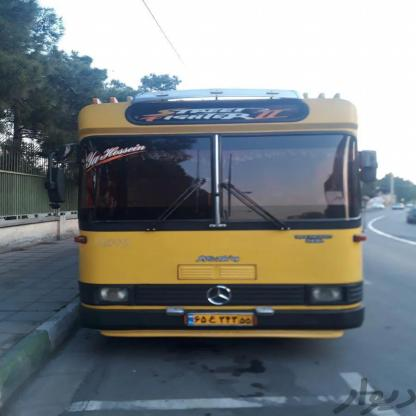Bus: (70, 90, 377, 347)
